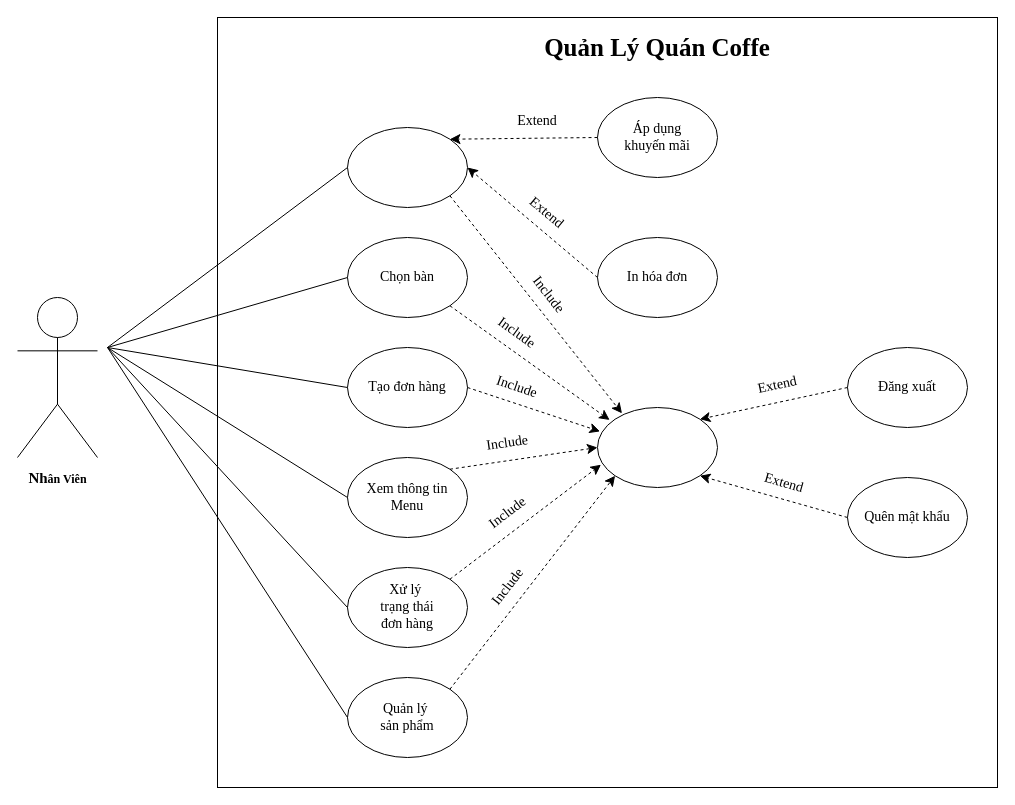
Image size: 1015x805. Some labels were removed from this diagram. Each missing label, with the centre of its shape:
"Thanh toán" belongs at point (407, 167).
"Đăng nhập" belongs at point (657, 447).
